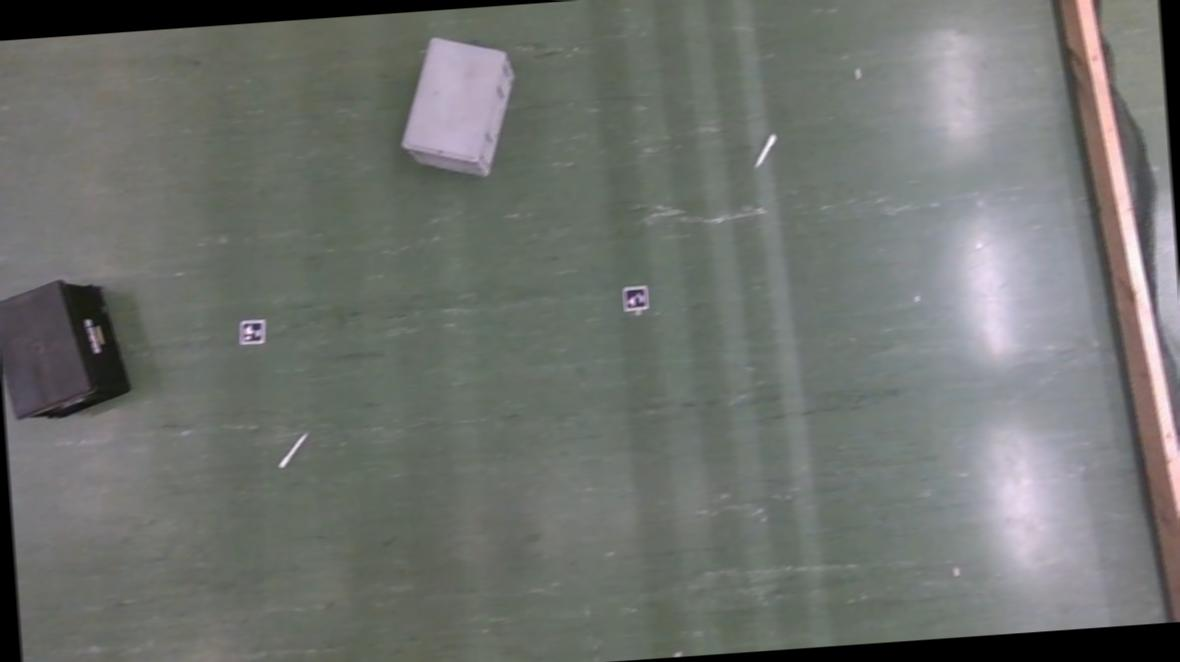probes: (278, 435, 309, 469), (754, 135, 776, 170)
rako: (0, 276, 131, 423), (395, 34, 522, 184)
